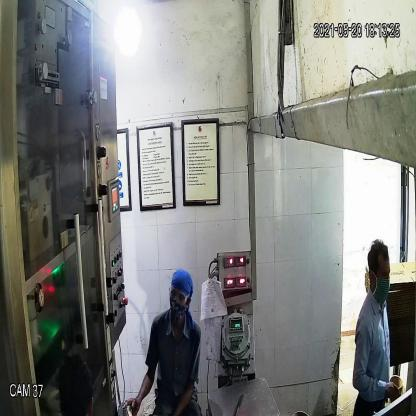goggles: (165, 284, 193, 309)
no_goggles: (370, 266, 392, 284)
